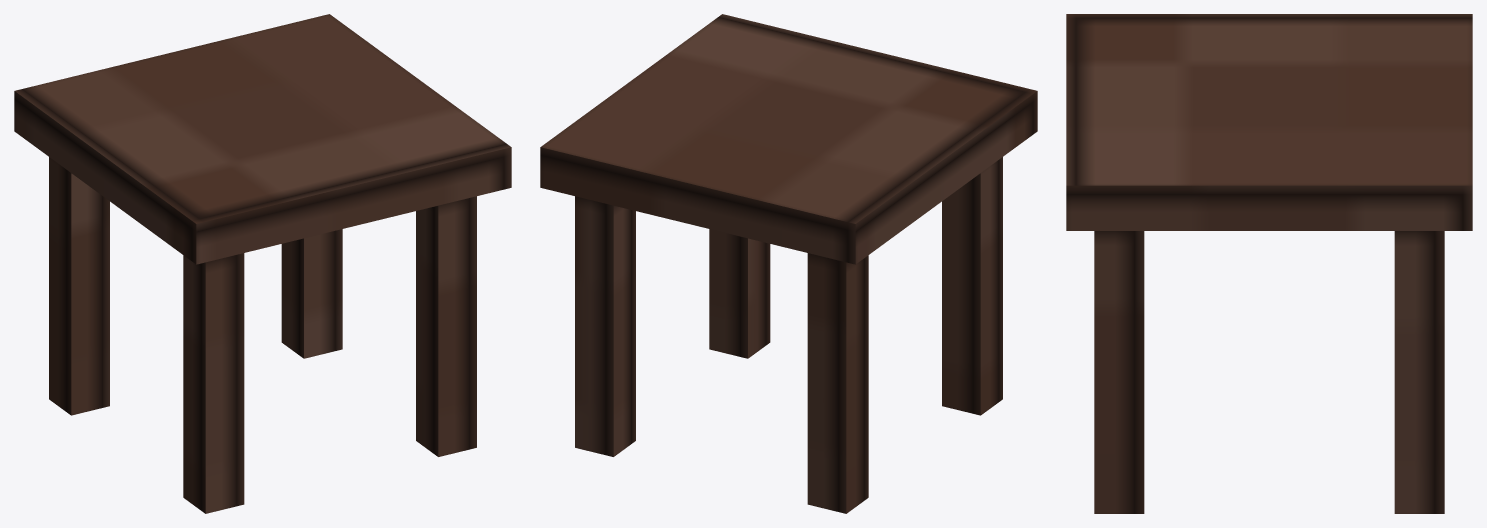
Rendered from plant_table.obj.
3 renders of one model, left to right at view 1: azimuth 30°, elevation 25°; view 2: azimuth 150°, elevation 25°; view 3: azimuth 270°, elevation 25°, orthographic. The views are drawn at different scales.
Size of the model in its own units: 0.65 by 0.6 by 0.65.
Materials: 1 (1 with a texture image).
